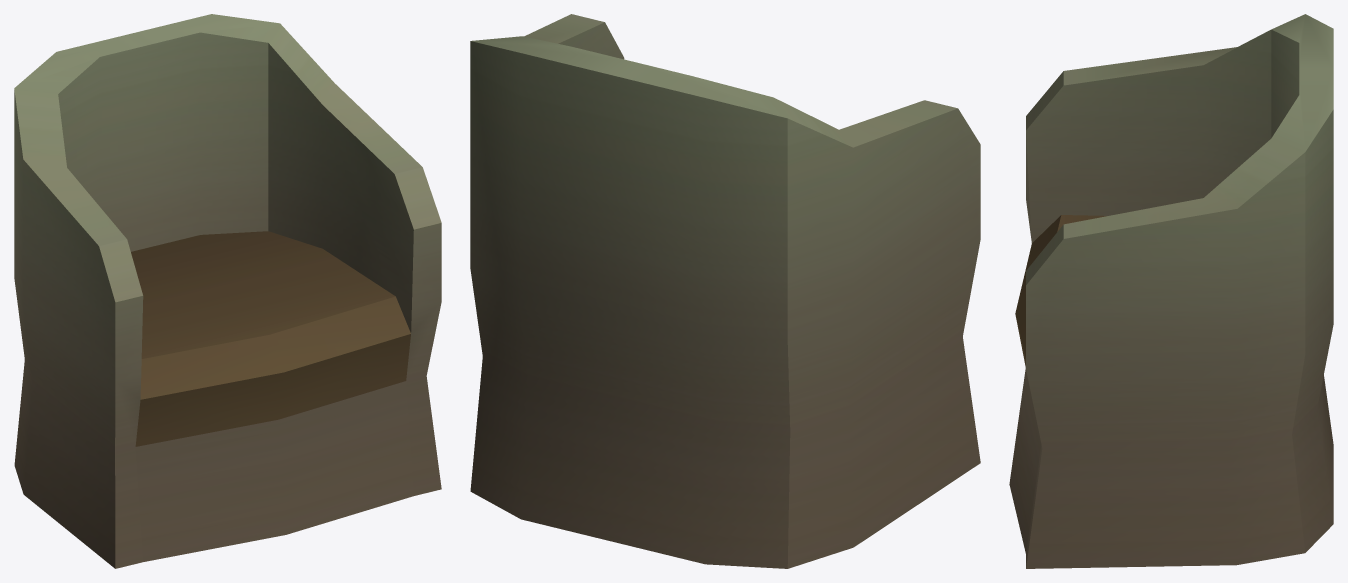
File: DiningChair_1.fbx
3 renders of one model, left to right at view 1: azimuth 30°, elevation 25°; view 2: azimuth 150°, elevation 25°; view 3: azimuth 270°, elevation 25°, orthographic. The views are drawn at different scales.
Parts seen in each view (by area): view 1: Cube.015; view 2: Cube.015; view 3: Cube.015.
Boxes of the visible parts, bbox=[...] form: Cube.015: bbox=[14, 14, 441, 568]; Cube.015: bbox=[470, 14, 980, 568]; Cube.015: bbox=[1009, 14, 1333, 568].
Bounding box in the file's own units: 218 × 249 × 176.
